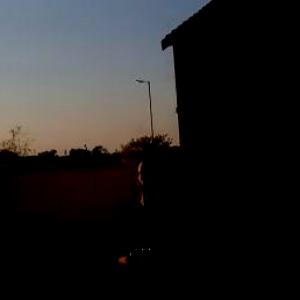follow: (110, 146, 207, 299)
